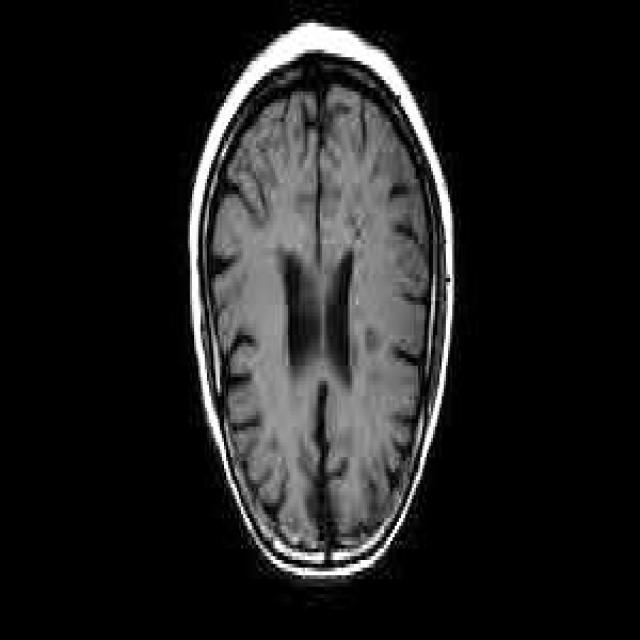notumor: (190, 23, 452, 575)
